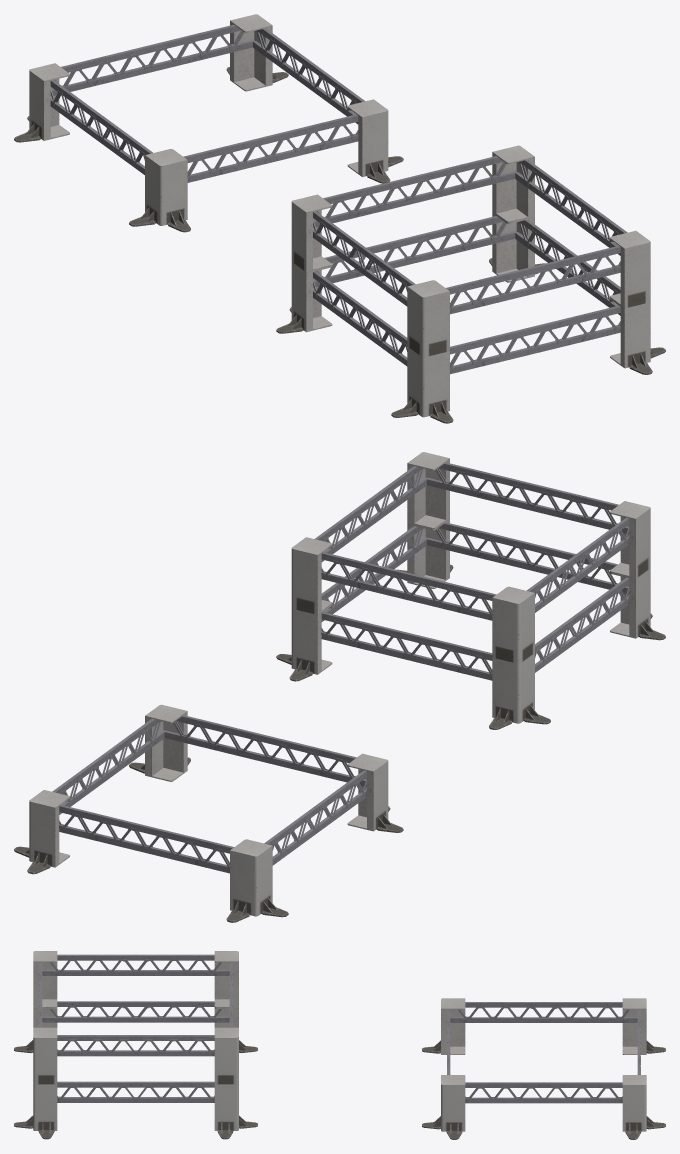
Rendered from StrutBase.dae.
3 renders of one model, top to bottom at view 1: azimuth 30°, elevation 25°; view 2: azimuth 150°, elevation 25°; view 3: azimuth 270°, elevation 25°, orthographic. The views are drawn at different scales.
Visible parts, largest first — view 1: StrutBase; view 2: StrutBase; view 3: StrutBase.
Boxes of the visible parts, x1,y1,x2,y2 form: StrutBase: [14, 14, 665, 423]; StrutBase: [14, 452, 665, 922]; StrutBase: [14, 951, 665, 1139].
Bounding box in the file's own units: 4.75 × 12.68 × 2.01.
